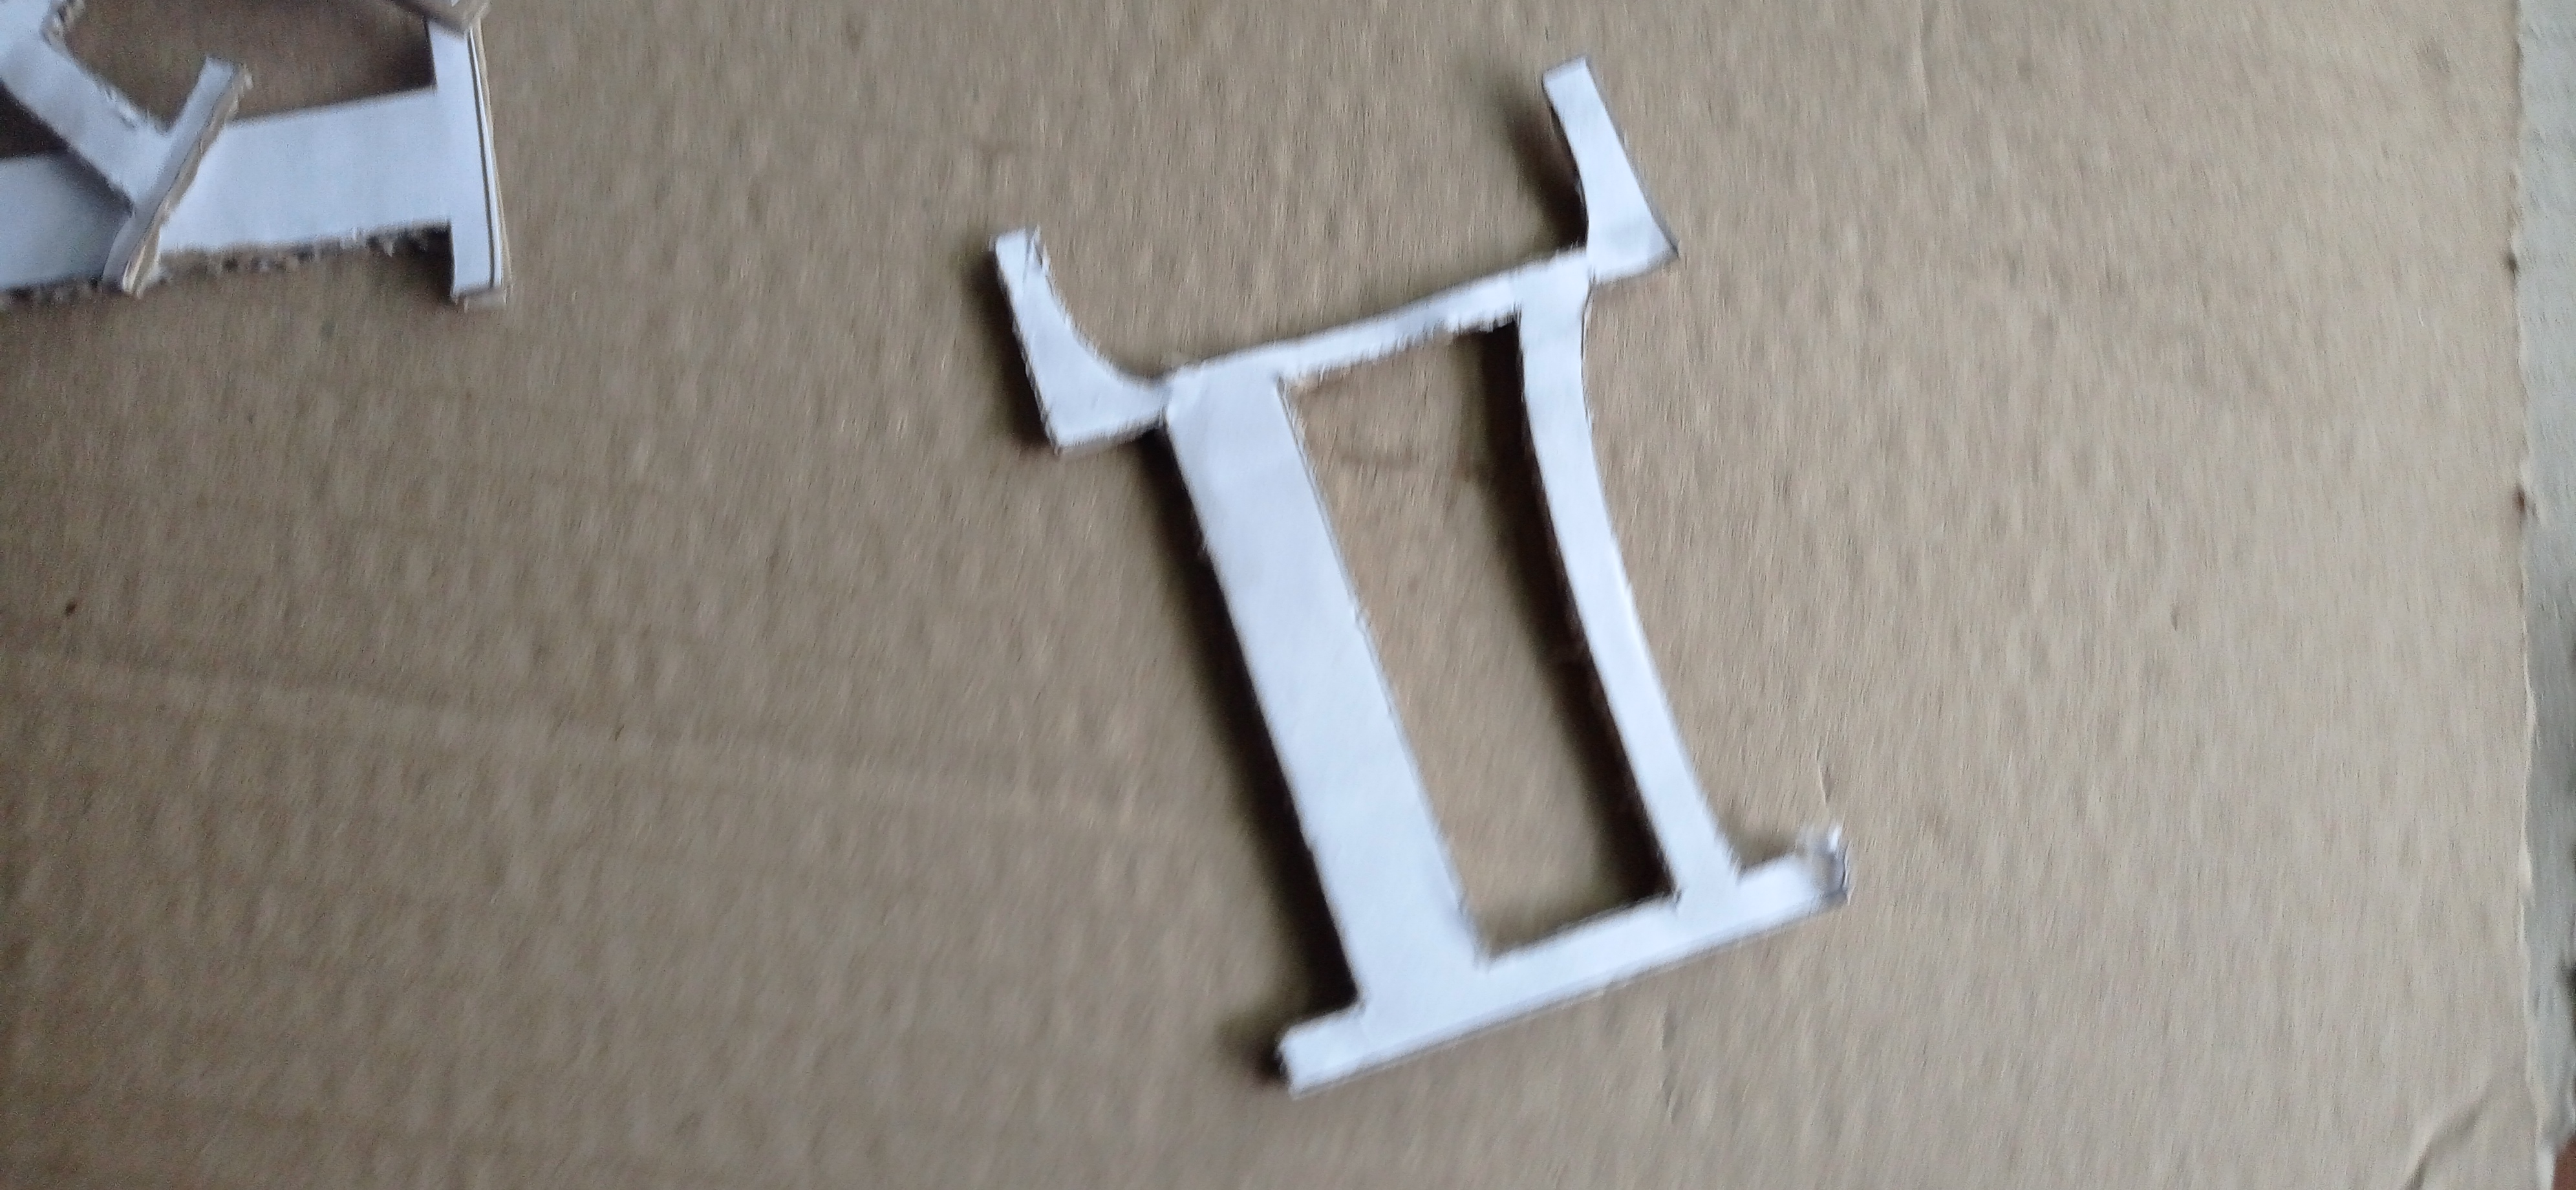d: (982, 58, 1850, 1096)
